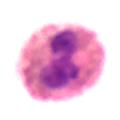monocyte: (17, 21, 108, 102)
